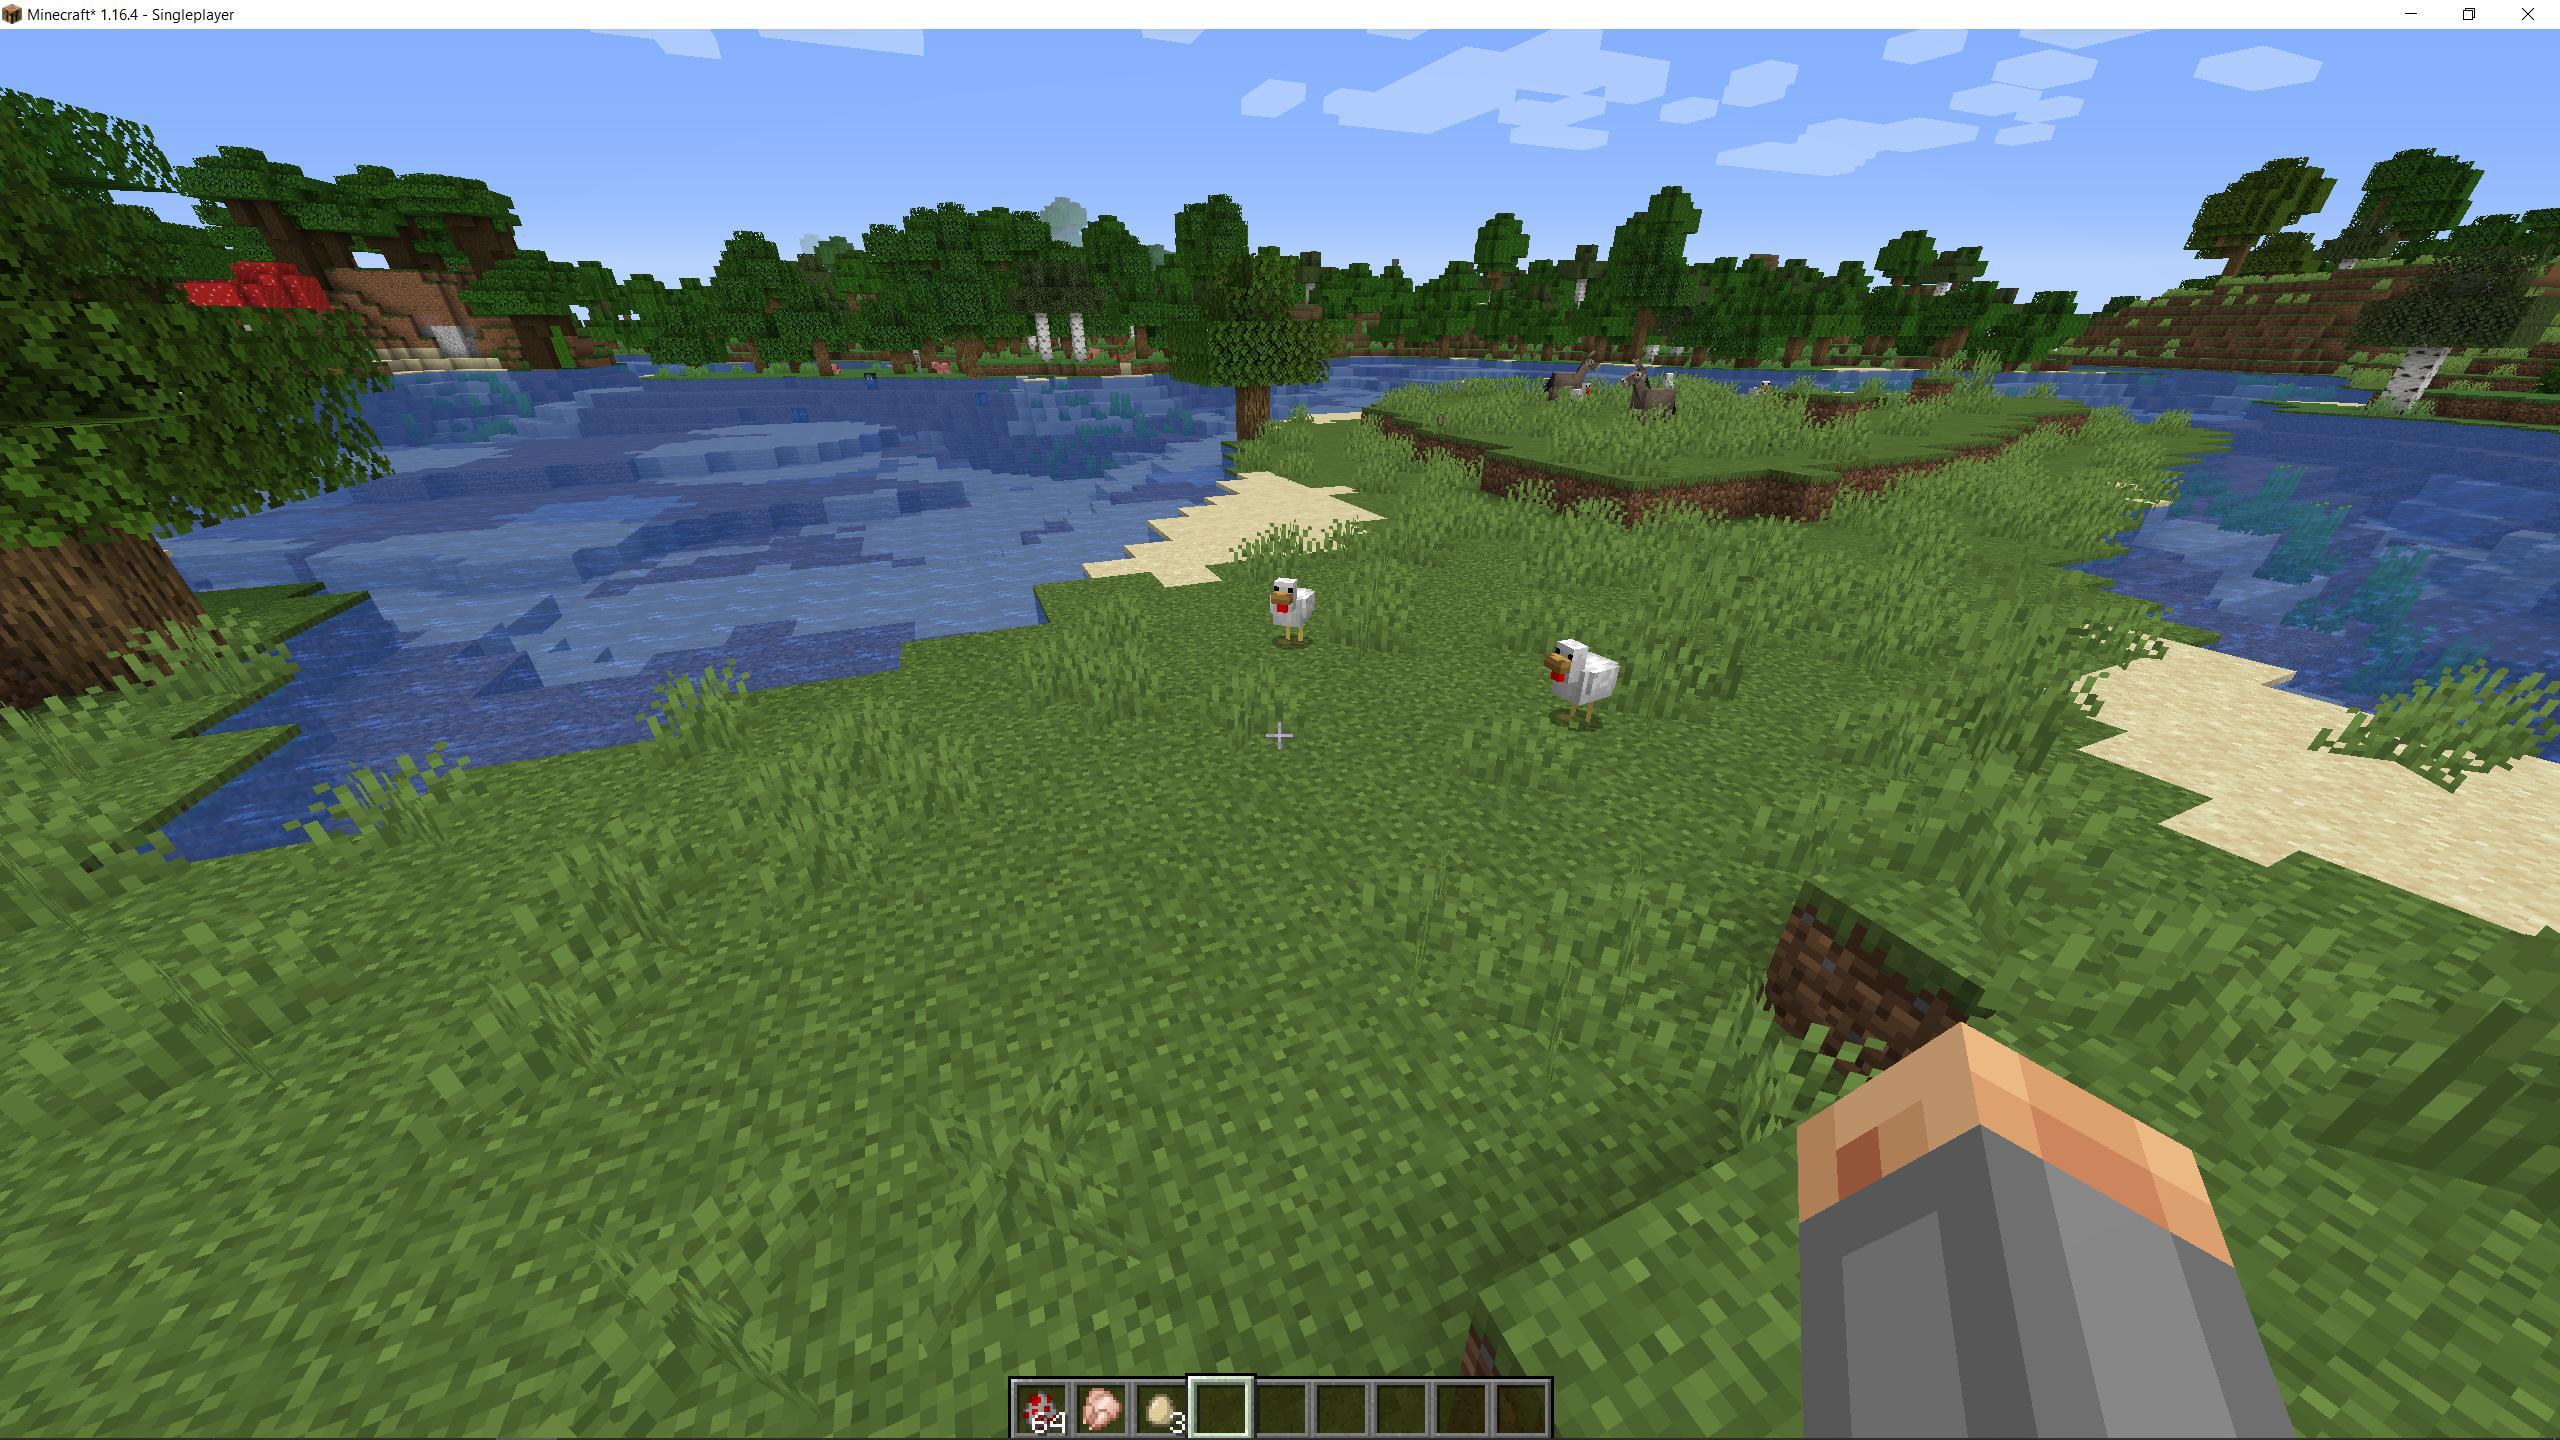chicken: (1540, 638, 1625, 728), (1264, 570, 1324, 652)
